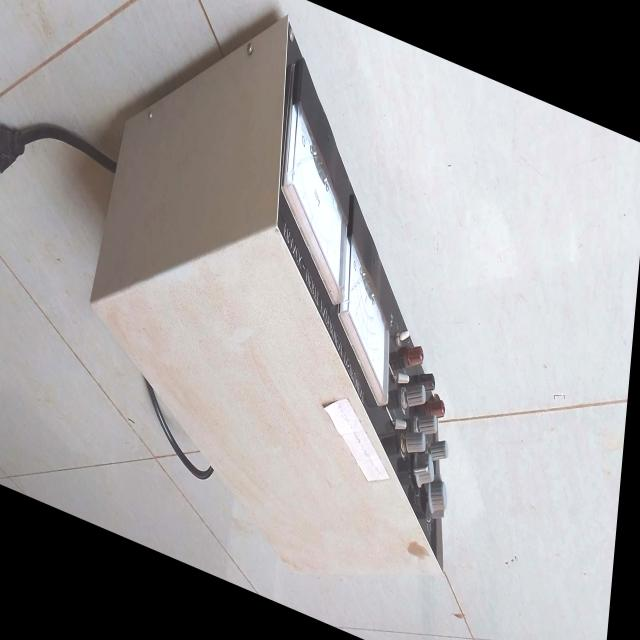Frank-Hertz Experiment Apparatus: (80, 0, 493, 615)
